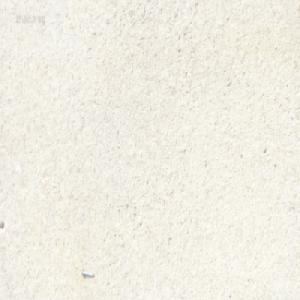Nail: (80, 267, 94, 277)
